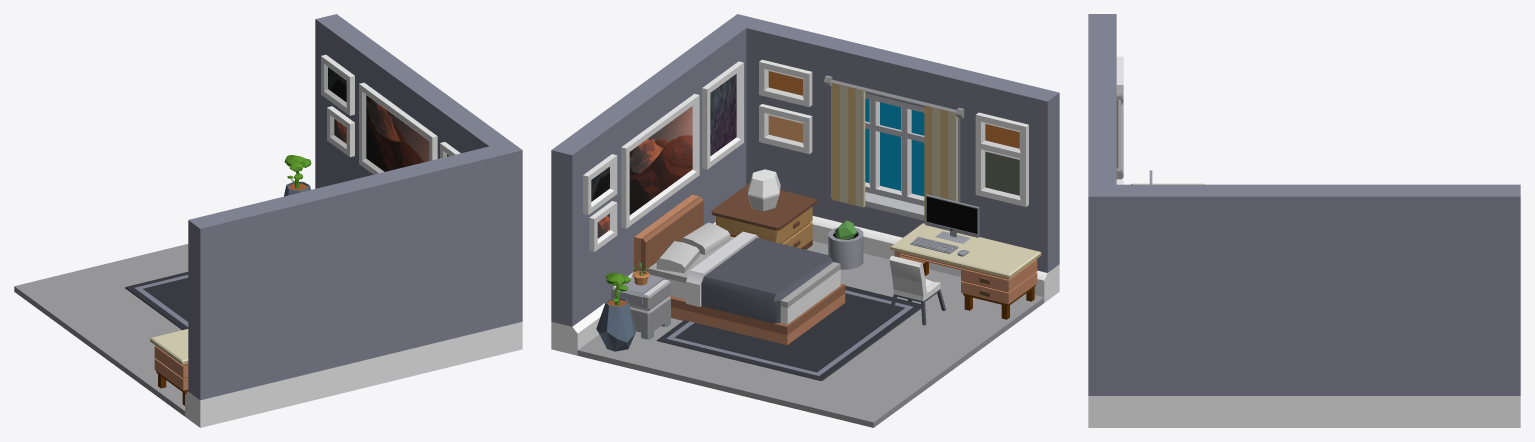
Rendered from house2.glb.
3 views of the same model, side by side, from view 1: azimuth 30°, elevation 25°; view 2: azimuth 150°, elevation 25°; view 3: azimuth 270°, elevation 25° (orthographic). The views are drawn at different scales.
Visible parts, largest first — view 1: tst1_10, tst4_1, tst17_13, tst14_9, tst2_11; view 2: tst1_10, tst4_1, tst3_0, tst17_13, tst9_4, tst8_3, tst14_9, tst5_12, tst15_15, tst10_5, tst2_11, tst21_17 (+3 smaller); view 3: tst1_10, tst4_1, tst9_4.
Part boxes in pixels (left/top/right/bottom): tst1_10: left=14, top=14, right=522, bottom=427; tst4_1: left=321, top=54, right=460, bottom=174; tst17_13: left=125, top=272, right=188, bottom=330; tst14_9: left=150, top=329, right=188, bottom=405; tst2_11: left=284, top=155, right=311, bottom=196; tst1_10: left=551, top=14, right=1059, bottom=427; tst4_1: left=583, top=59, right=1028, bottom=252; tst3_0: left=634, top=194, right=845, bottom=344; tst17_13: left=656, top=285, right=921, bottom=380; tst9_4: left=824, top=75, right=964, bottom=222; tst8_3: left=831, top=85, right=960, bottom=220; tst14_9: left=890, top=223, right=1041, bottom=319; tst5_12: left=711, top=183, right=816, bottom=249; tst15_15: left=611, top=272, right=670, bottom=339; tst10_5: left=925, top=194, right=979, bottom=243; tst2_11: left=596, top=272, right=636, bottom=351; tst21_17: left=656, top=222, right=730, bottom=273; tst1_10: left=1088, top=14, right=1520, bottom=427; tst4_1: left=1116, top=56, right=1123, bottom=184; tst9_4: left=1116, top=93, right=1123, bottom=179.
Bounding box in the file's own units: 30.5 × 18 × 30.5.
49 materials, 2 textured.
